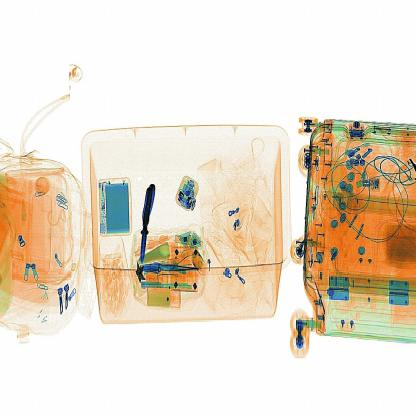gun: (127, 178, 162, 269)
